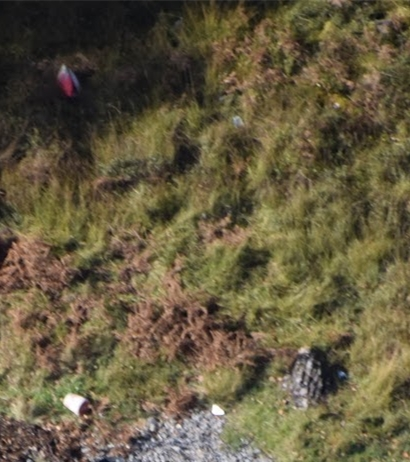white_in_green: (30, 48, 109, 115), (45, 371, 110, 427), (190, 384, 247, 431)
